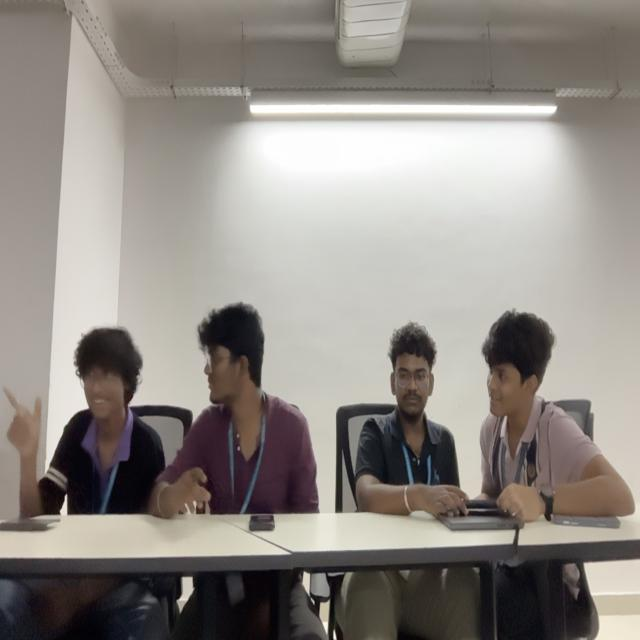Isolated: (357, 313, 467, 513)
socializing: (1, 300, 320, 512), (477, 310, 636, 513)
